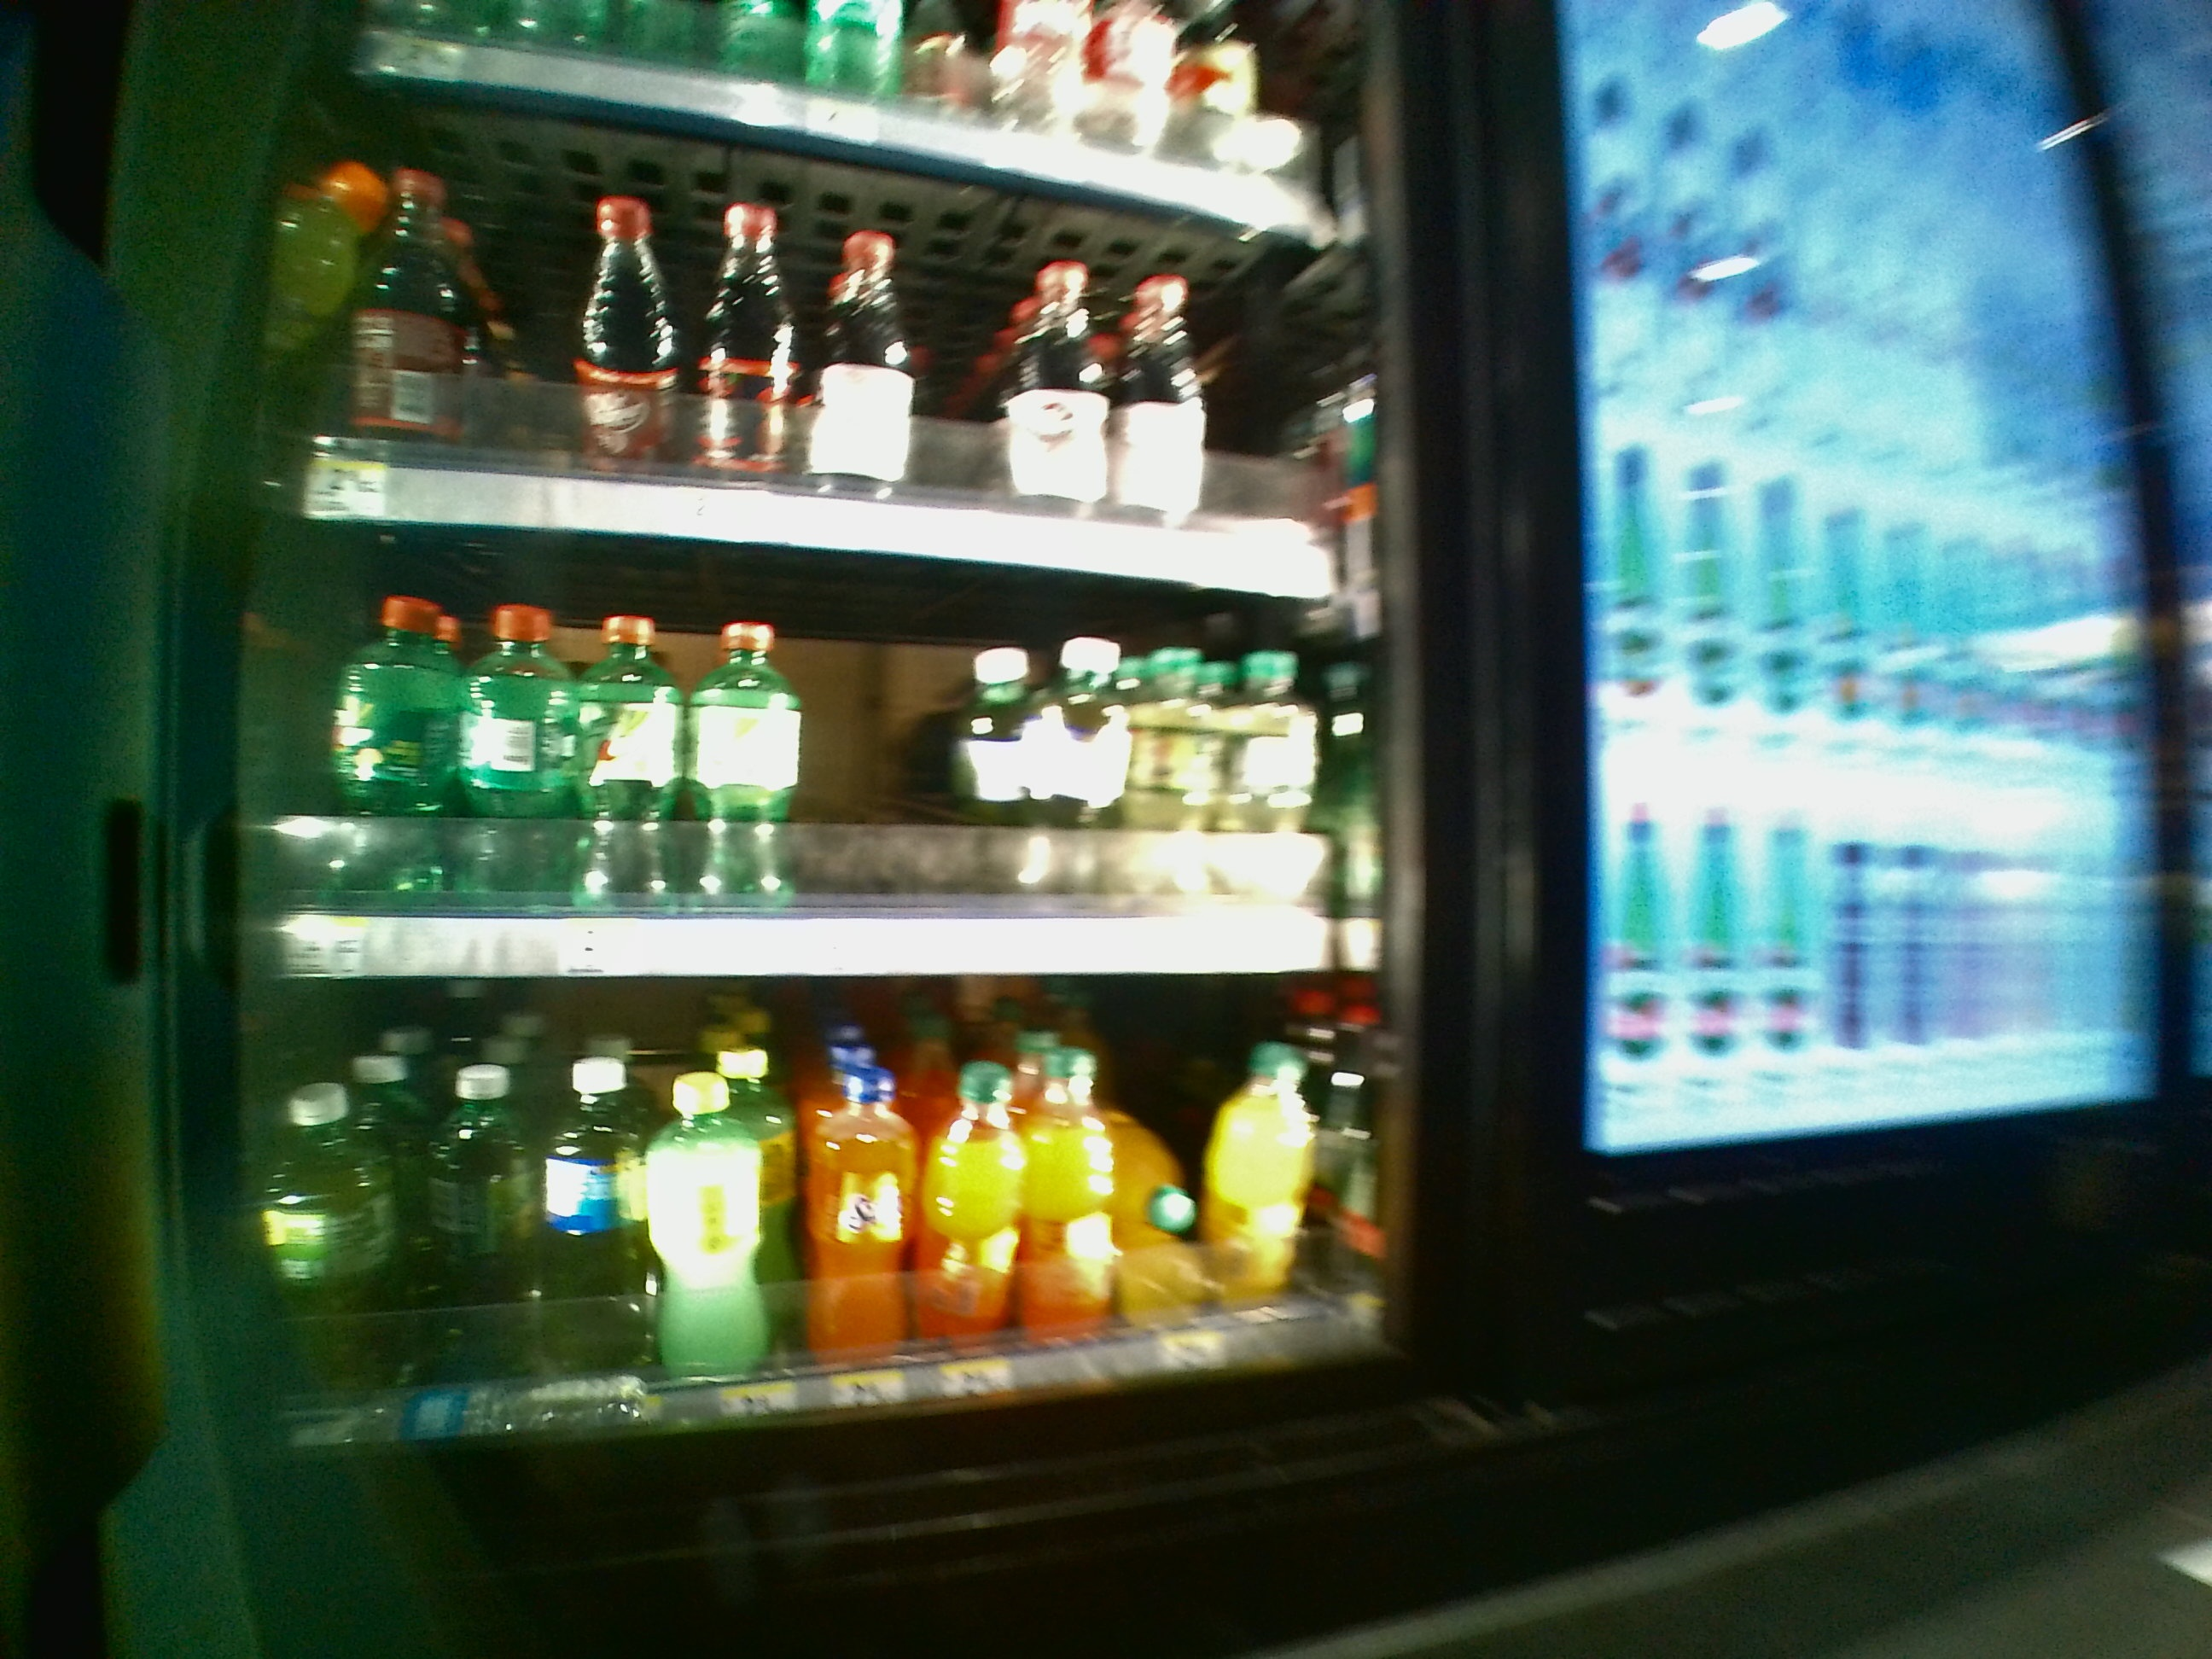shelf: (263, 528, 1359, 990), (273, 1004, 1383, 1419)
